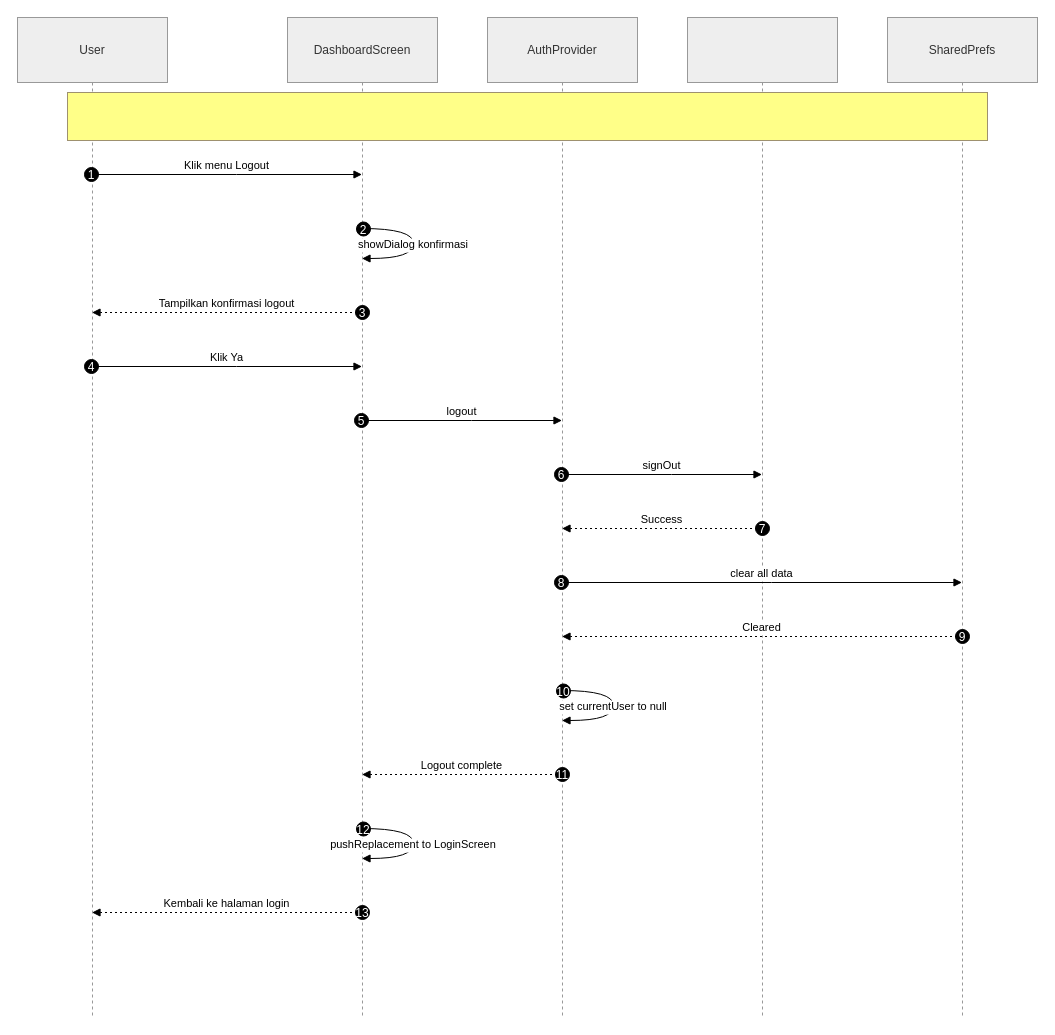
The diagram is 1055 pixels wide and 1035 high, and some of its shapes have lost their labels. Here are the shapes that lost their labels. From the top down, the centre of each, then its label:
At pixel 527 116: "LOGOUT FLOW".
At pixel 762 517: "SupabaseAPI".
